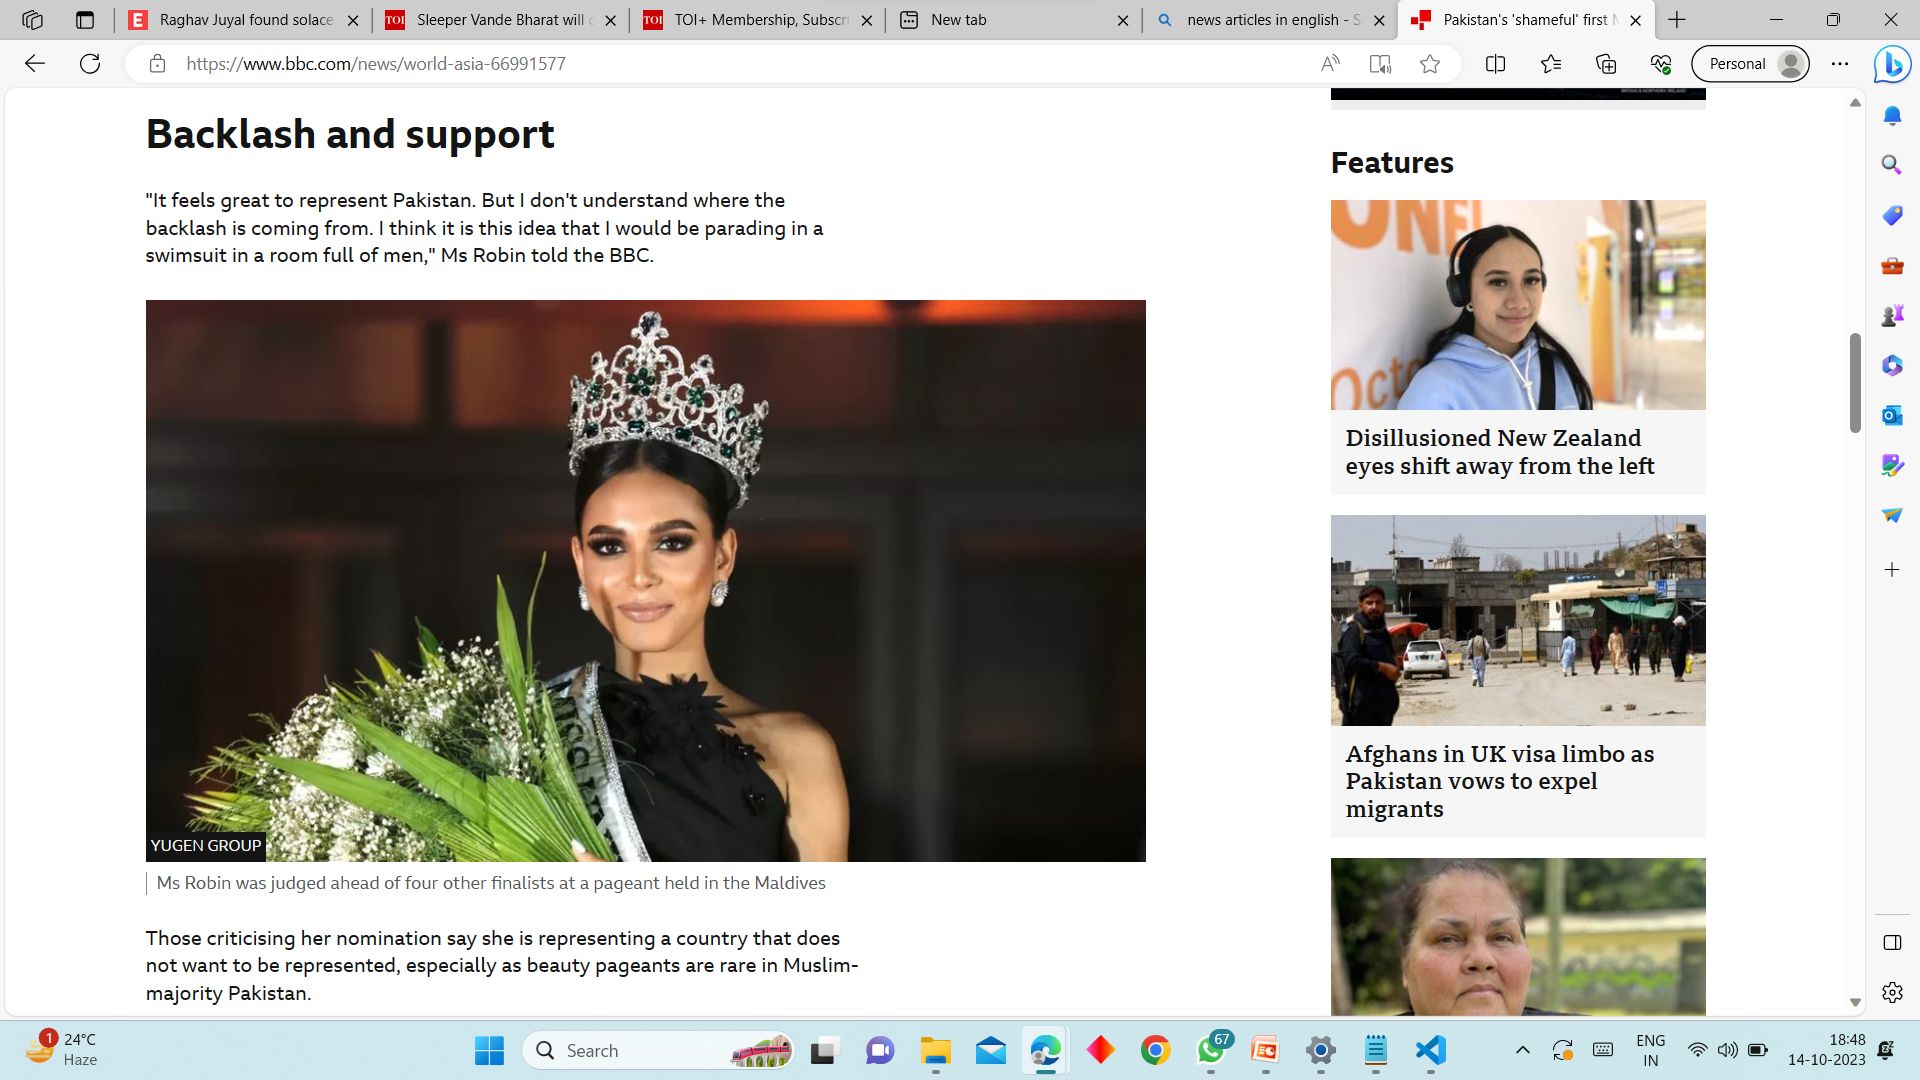Image: (144, 282, 1172, 868), (1319, 186, 1724, 422), (1317, 505, 1716, 723), (1312, 855, 1708, 1013)
Paragraph: (141, 913, 906, 1015), (132, 186, 855, 273), (148, 856, 843, 907), (1337, 736, 1681, 833), (1328, 418, 1662, 495), (152, 92, 553, 154), (1315, 136, 1494, 181)
